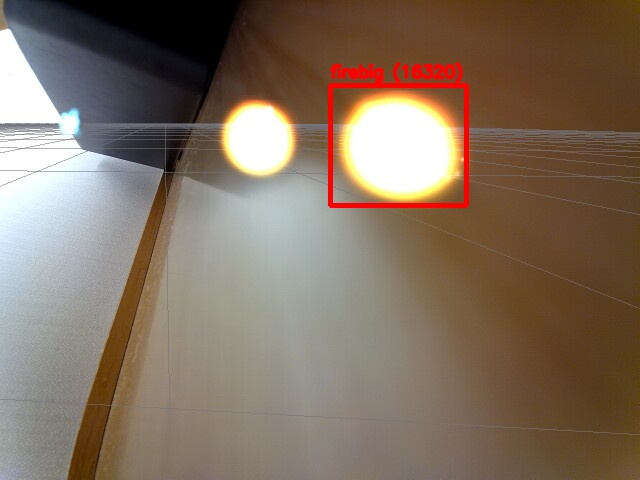firebig: (330, 85, 466, 205)
